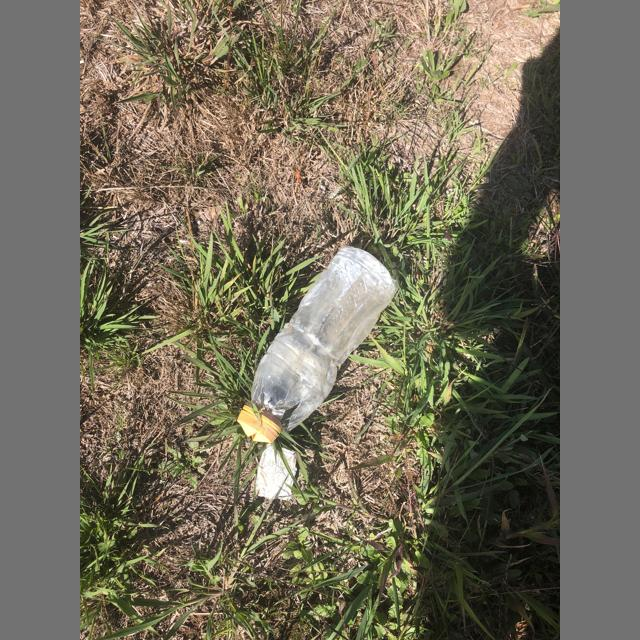litter: (237, 246, 400, 443), (255, 444, 297, 499), (237, 410, 278, 444)
